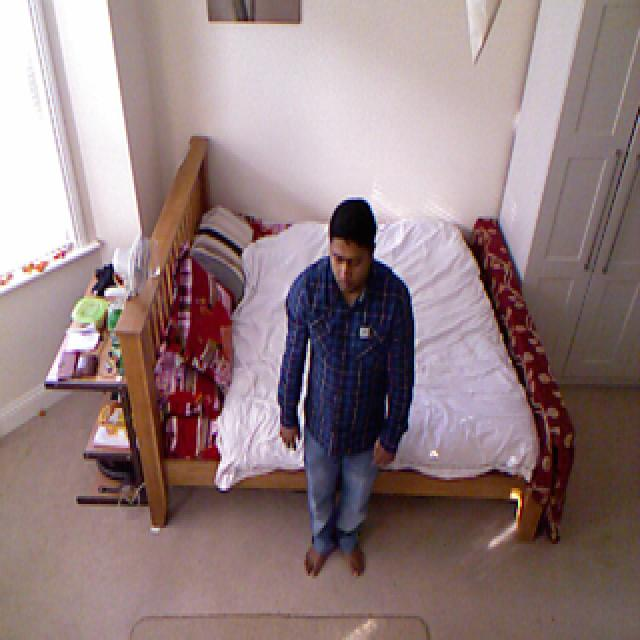standing: (277, 197, 415, 583)
